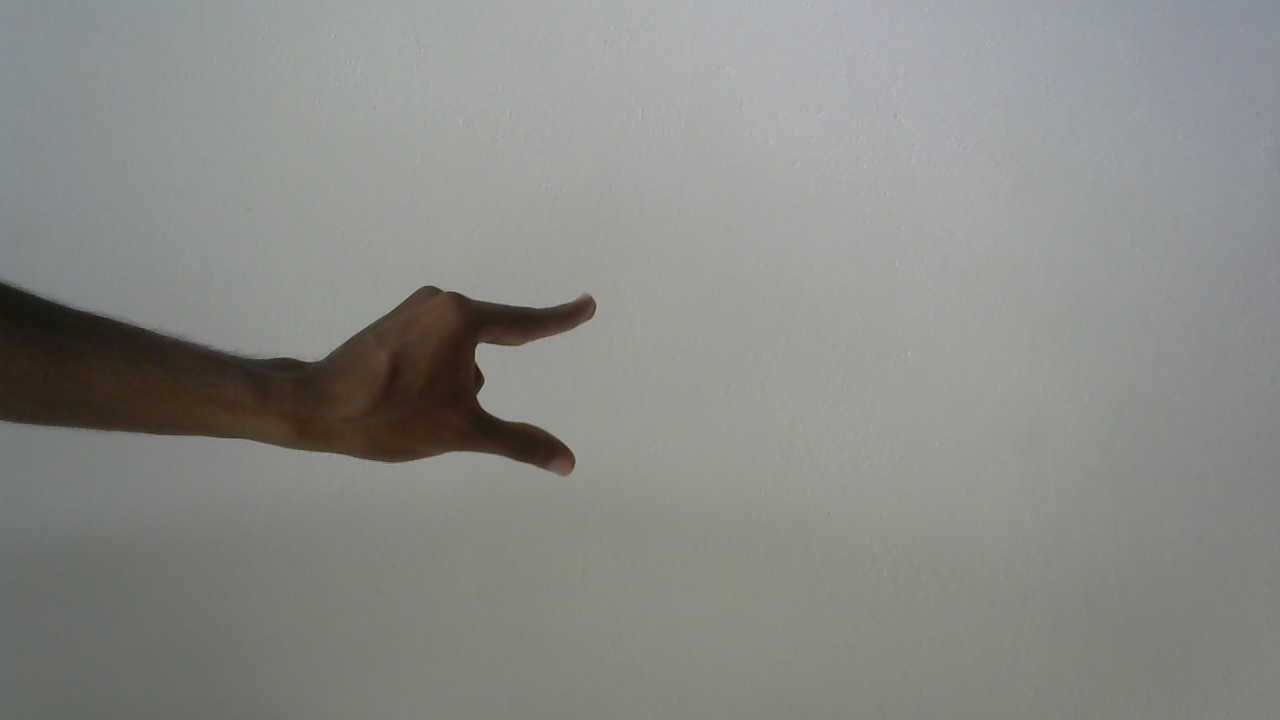no: (285, 273, 620, 502)
